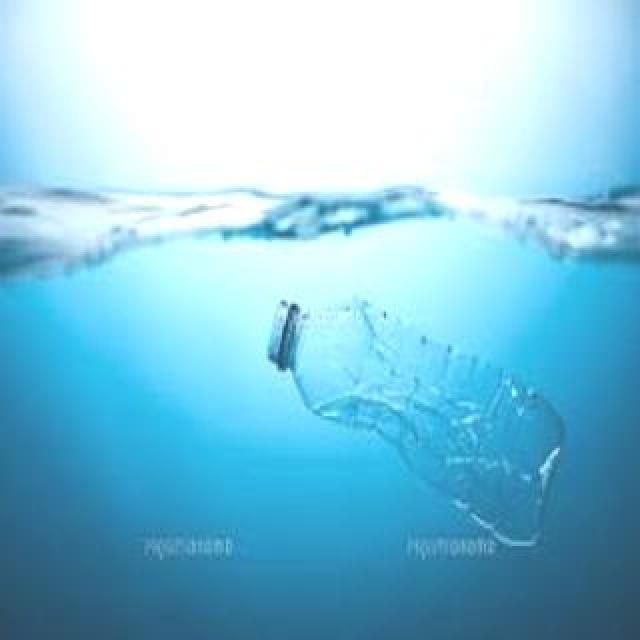Pet_Bottle: (263, 288, 569, 554)
